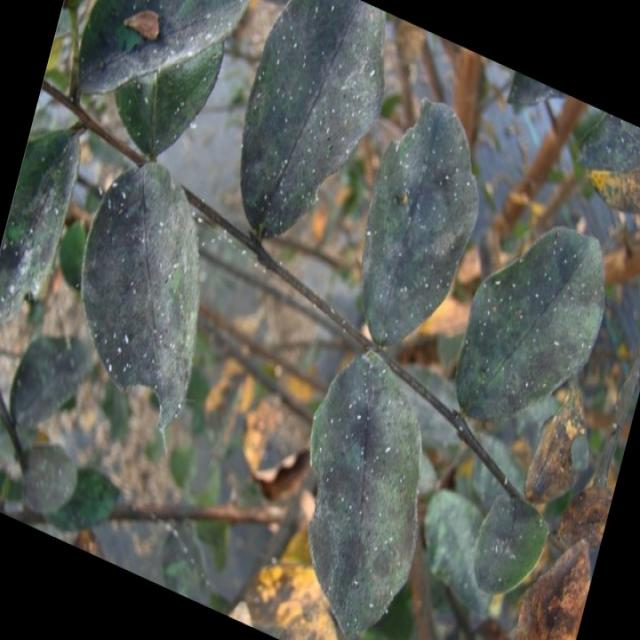Sooty Mold: (32, 22, 639, 640)
